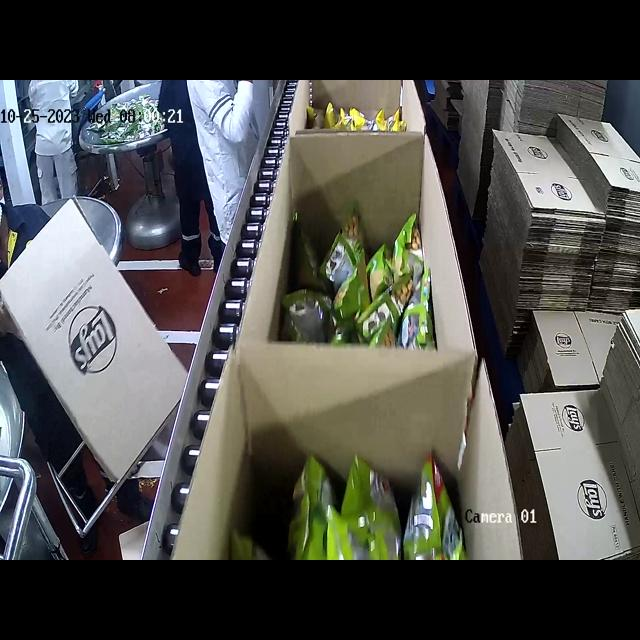salted: (295, 100, 414, 138)
yogurt: (291, 214, 435, 355), (259, 462, 453, 560)
